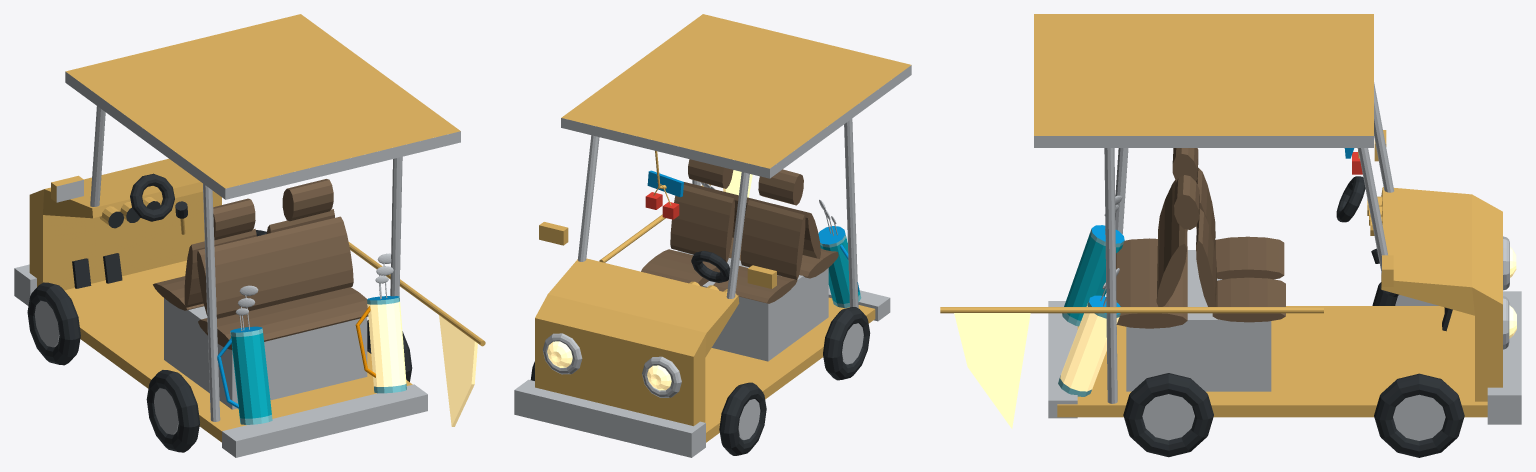
Rendered from gold-golf-cart.glb.
3 views of the same model, side by side, from view 1: azimuth 30°, elevation 25°; view 2: azimuth 150°, elevation 25°; view 3: azimuth 270°, elevation 25° (orthographic). The views are drawn at different scales.
Parts seen in each view (by area): view 1: object 2, object 7, object 4, object 12, object 10, wheel-fl, wheel-rl, object 3, object 1, object 11; view 2: object 2, object 7, object 4, wheel-fl, wheel-rl, object 10, object 12, object 1, object 14; view 3: object 2, object 7, object 4, object 12, wheel-rr, wheel-fr, object 10, object 1, wheel-fl.
Part boxes in pixels (x1,y1,x2,y2): object 2: (29,14,485,442); object 7: (14,71,460,457); object 4: (153,179,368,349); object 12: (367,301,477,426); object 10: (217,296,406,424); wheel-fl: (27,282,80,365); wheel-rl: (146,370,199,452); object 3: (72,201,187,288); object 1: (130,173,174,221); object 11: (56,180,393,315); object 2: (535,14,910,442); object 7: (514,65,911,457); object 4: (641,159,838,303); wheel-fl: (719,382,766,455); wheel-rl: (823,307,870,380); object 10: (647,170,861,308); object 12: (547,170,752,390); object 1: (691,251,729,282); object 14: (645,192,679,219); object 2: (940,14,1502,417); object 7: (1034,82,1521,424); object 4: (1116,148,1285,328); object 12: (954,247,1516,428); wheel-rr: (1123,373,1213,457); wheel-fr: (1374,373,1464,457); object 10: (1058,148,1354,396); object 1: (1336,176,1365,222); wheel-fl: (1372,282,1438,305).
Size of the model in its own units: 1.72 by 1.97 by 3.15.
